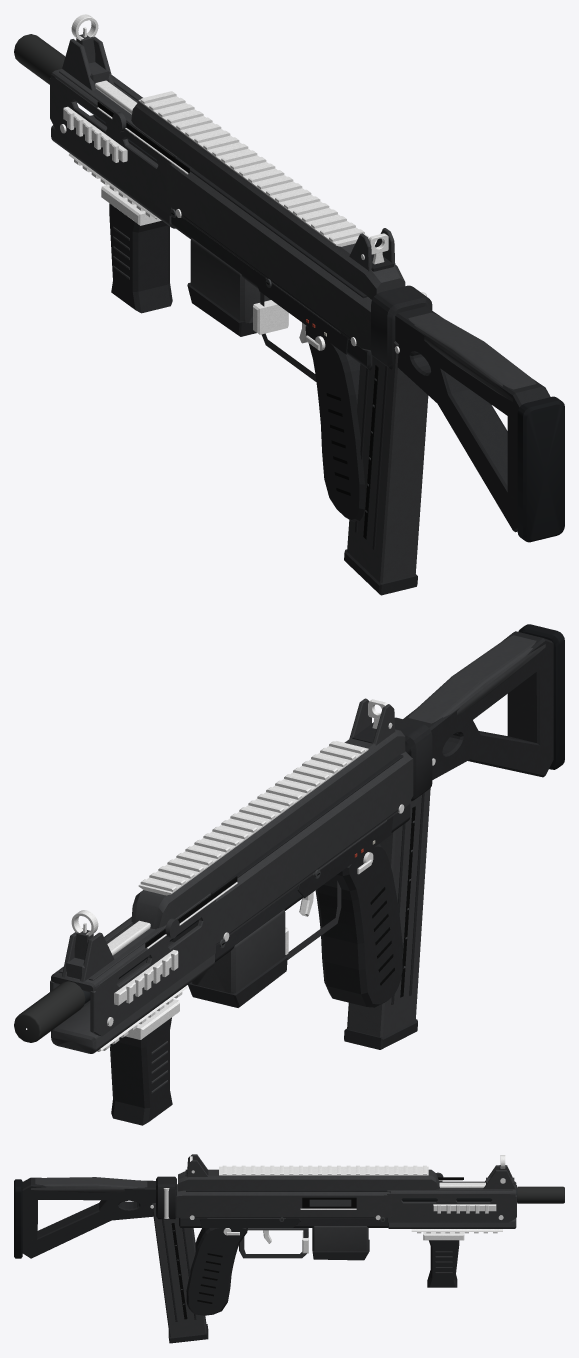
File: weapon-74-DSxyv0g-.glb
3 views of the same model, one above another, from view 1: azimuth 30°, elevation 25°; view 2: azimuth 150°, elevation 25°; view 3: azimuth 270°, elevation 25° (orthographic). The views are drawn at different scales.
Parts seen in each view (by area): view 1: salient_weapon_body, salient_weapon_stock, salient_weapon_magazine, salient_weapon_iron; view 2: salient_weapon_body, salient_weapon_stock, salient_weapon_magazine, salient_weapon_iron; view 3: salient_weapon_body, salient_weapon_stock, salient_weapon_magazine, salient_weapon_iron.
Boxes of the visible parts, x1=… form: salient_weapon_body: x1=14, y1=34, x2=405, y2=521; salient_weapon_stock: x1=371, y1=285, x2=564, y2=542; salient_weapon_magazine: x1=344, y1=341, x2=428, y2=595; salient_weapon_iron: x1=62, y1=14, x2=395, y2=271; salient_weapon_body: x1=14, y1=729, x2=413, y2=1125; salient_weapon_stock: x1=394, y1=624, x2=564, y2=801; salient_weapon_magazine: x1=344, y1=758, x2=432, y2=1049; salient_weapon_iron: x1=62, y1=698, x2=395, y2=981; salient_weapon_body: x1=176, y1=1165, x2=564, y2=1315; salient_weapon_stock: x1=14, y1=1176, x2=176, y2=1258; salient_weapon_magazine: x1=152, y1=1203, x2=208, y2=1343; salient_weapon_iron: x1=185, y1=1154, x2=515, y2=1189.
Size of the model in its own units: 0.041 by 0.2122 by 0.578.
Materials: 22 (14 with a texture image).
